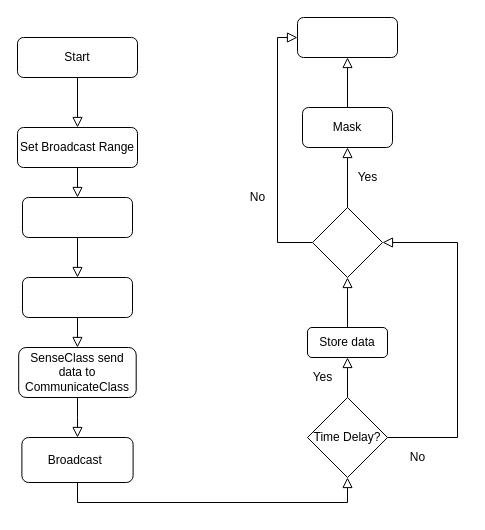
This 485x530 diagram has some shape labels left out. The box of each missing label's shape, as (x1, y1, x2, y2) in pixels:
Data lose?: (312, 206, 382, 278)
End: (296, 16, 398, 58)
Send data to SenseClass: (22, 196, 132, 238)
SenseClass process the data: (22, 276, 132, 318)
